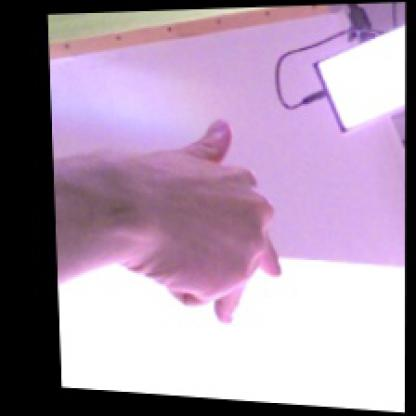Hand: (111, 119, 282, 326)
